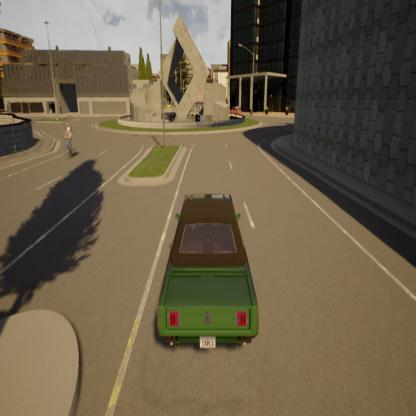Cars: (142, 169, 264, 361), (229, 104, 244, 118)
